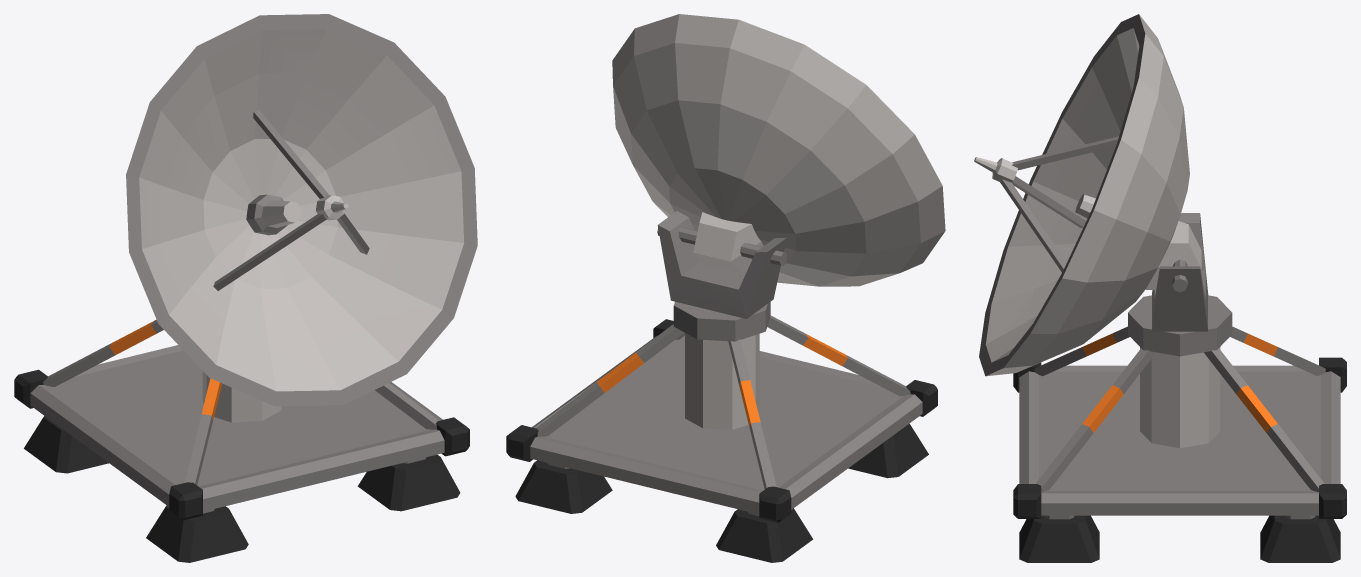
File: scifi_scifi-satelit-big.fbx
3 renders of one model, left to right at view 1: azimuth 30°, elevation 25°; view 2: azimuth 150°, elevation 25°; view 3: azimuth 270°, elevation 25°, orthographic. The views are drawn at different scales.
Parts seen in each view (by area): view 1: scifi_satelit_big_head, scifi_satelit_big_base; view 2: scifi_satelit_big_base, scifi_satelit_big_head; view 3: scifi_satelit_big_base, scifi_satelit_big_head.
Boxes of the visible parts, x1,y1,x2,y2 form: scifi_satelit_big_head: (126, 14, 477, 406); scifi_satelit_big_base: (14, 319, 469, 562); scifi_satelit_big_base: (506, 211, 937, 562); scifi_satelit_big_head: (612, 14, 945, 286); scifi_satelit_big_base: (1013, 213, 1346, 562); scifi_satelit_big_head: (974, 14, 1201, 376).
Bounding box in the file's own units: 155 × 200 × 146.
